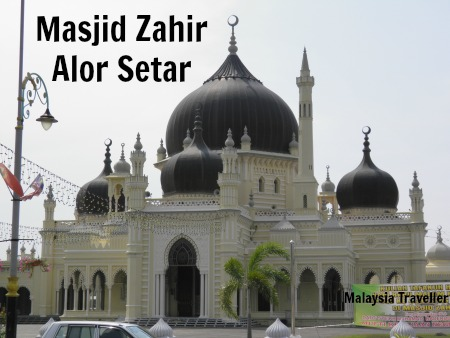Mosque: (67, 16, 425, 323)
